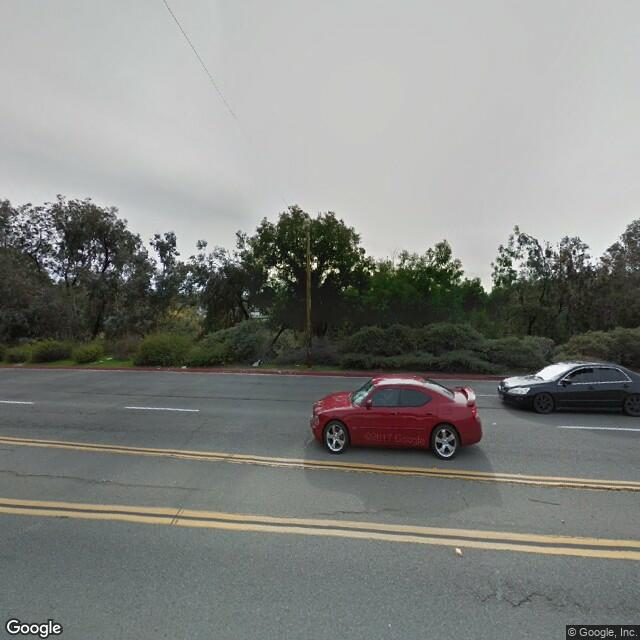litter: (251, 359, 261, 372)
